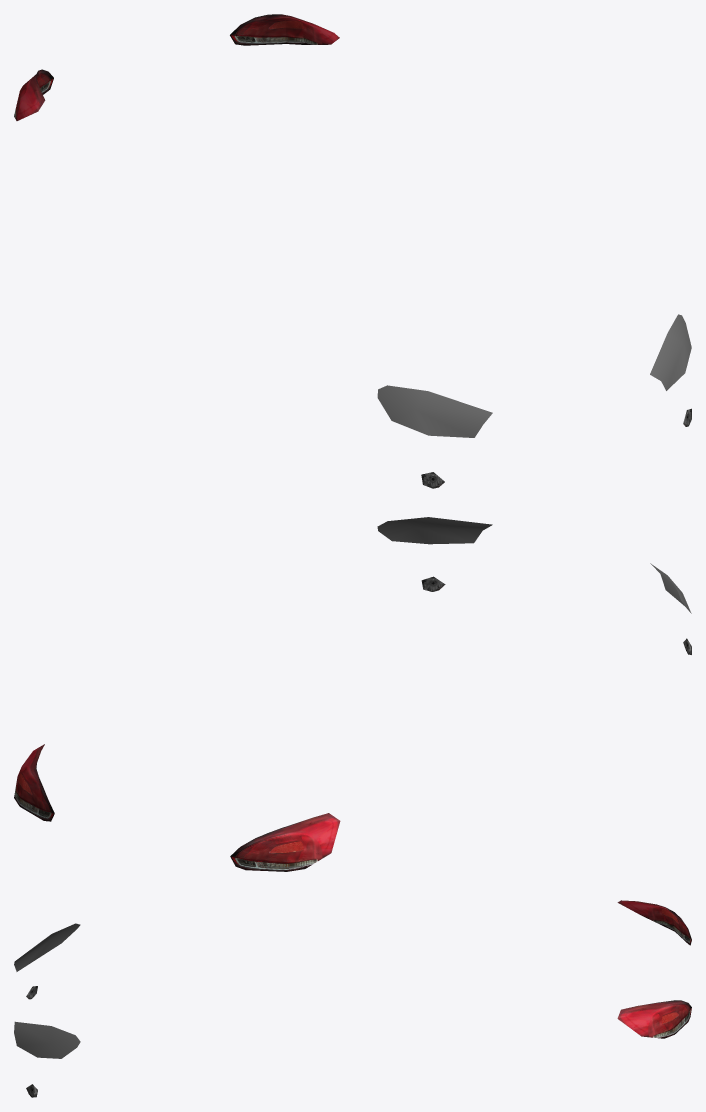
File: Car_1.fbx
The picture shows the model from 3 angles, top to bottom: view 1: azimuth 30°, elevation 25°; view 2: azimuth 150°, elevation 25°; view 3: azimuth 270°, elevation 25°; orthographic projection. The views are drawn at different scales.
Visible parts, largest first — view 1: Object007, Object003, Object002; view 2: Object002, Object007, Object003, Object006, Object005; view 3: Object007, Object003, Object002, Object005.
Boxes of the visible parts, x1,y1,x2,y2 form: Object007: (377, 314, 691, 437); Object003: (230, 14, 339, 45); Object002: (14, 69, 53, 120); Object002: (230, 813, 340, 871); Object007: (377, 517, 691, 613); Object003: (14, 744, 54, 821); Object006: (231, 638, 691, 870); Object005: (14, 576, 445, 818); Object007: (14, 923, 80, 1058); Object003: (617, 1000, 691, 1038); Object002: (617, 900, 691, 945); Object005: (26, 1007, 691, 1097).
Size of what is drawn, in the model's own units: 65.82 by 24.01 by 156.
2 materials, 1 textured.
